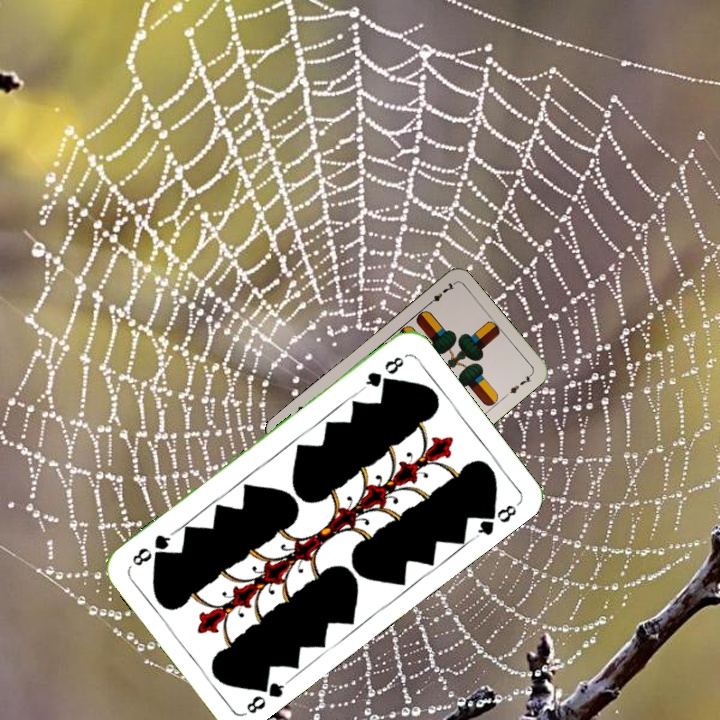E7: (423, 279, 457, 309)
G8: (241, 674, 292, 717), (358, 352, 407, 393)
